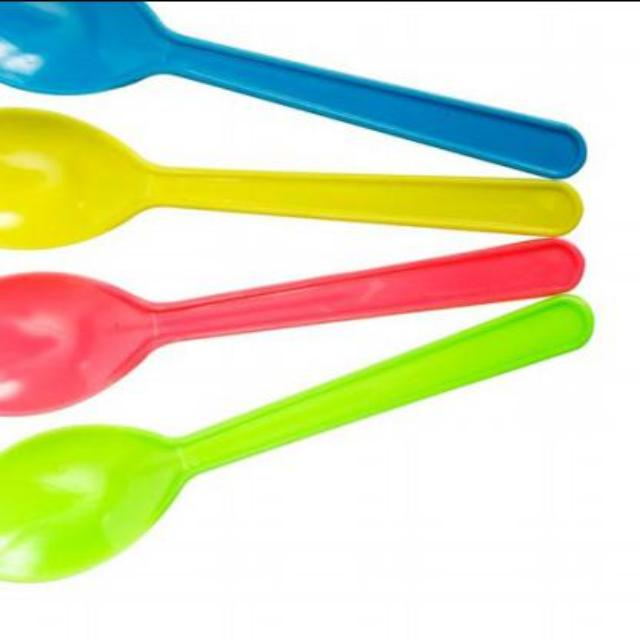plastic_cultery: (0, 0, 596, 600)
